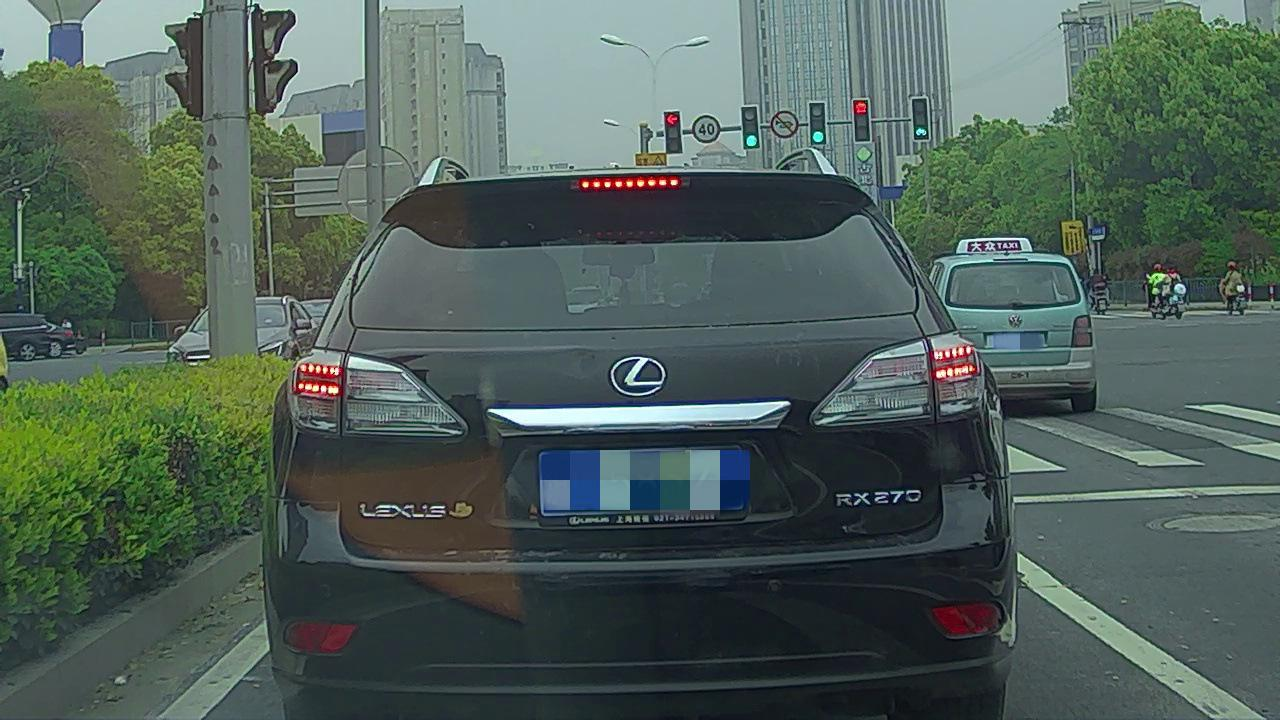traffic_light: (740, 105, 760, 149), (853, 99, 871, 143), (913, 96, 930, 141), (810, 103, 826, 146), (665, 112, 682, 151)
